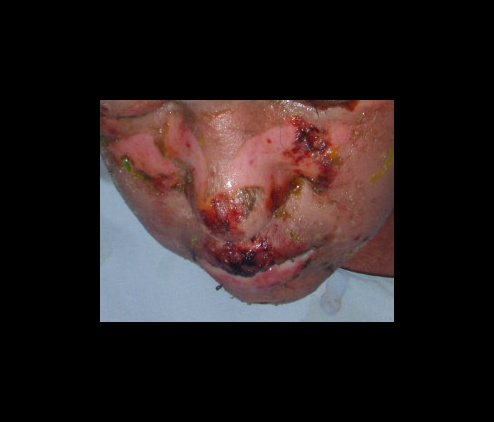SJS-TEN: (98, 98, 397, 313)
